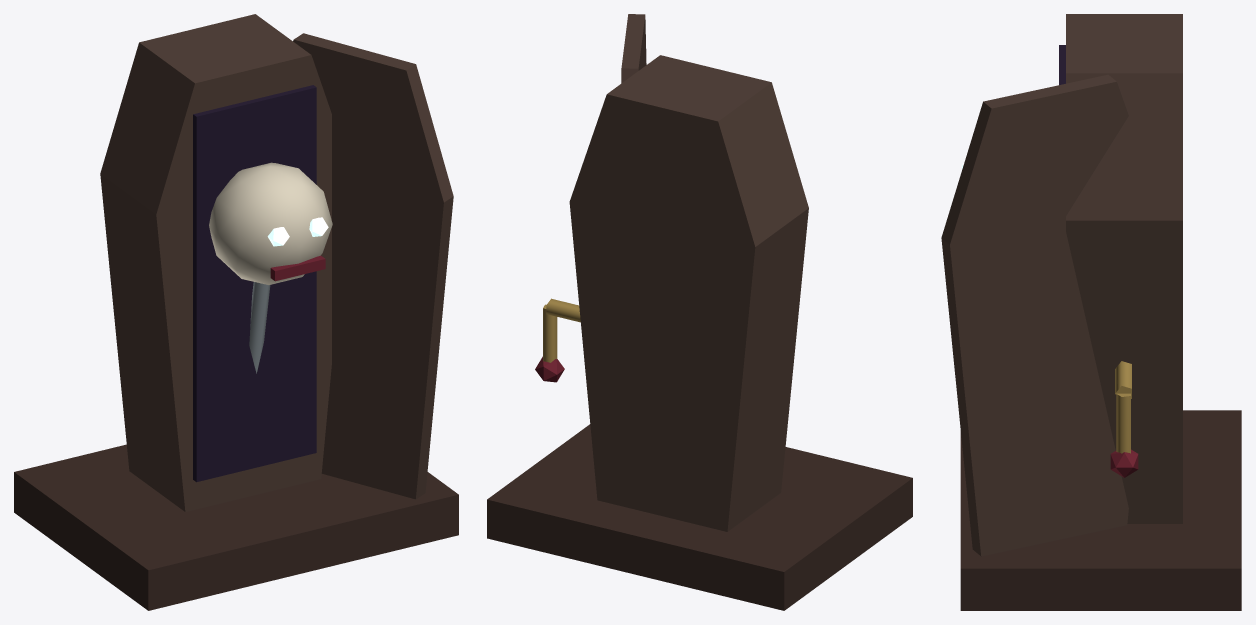
File: prop_coffin.glb
The picture shows the model from 3 angles, left to right: view 1: azimuth 30°, elevation 25°; view 2: azimuth 150°, elevation 25°; view 3: azimuth 270°, elevation 25°; orthographic projection. The views are drawn at different scales.
Visible parts, largest first — view 1: prop_coffin; view 2: prop_coffin; view 3: prop_coffin.
Part boxes in pixels (x1,y1,x2,y2): prop_coffin: (14, 14, 458, 610); prop_coffin: (487, 14, 912, 610); prop_coffin: (941, 14, 1241, 610).
Size of the model in its own units: 1.61 by 2.3 by 1.28.
